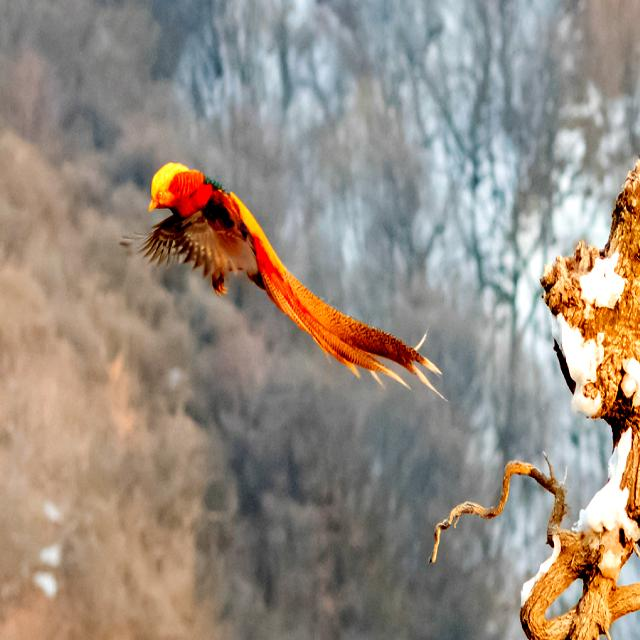Chrysolophus pictus feather: (255, 268, 441, 390)
